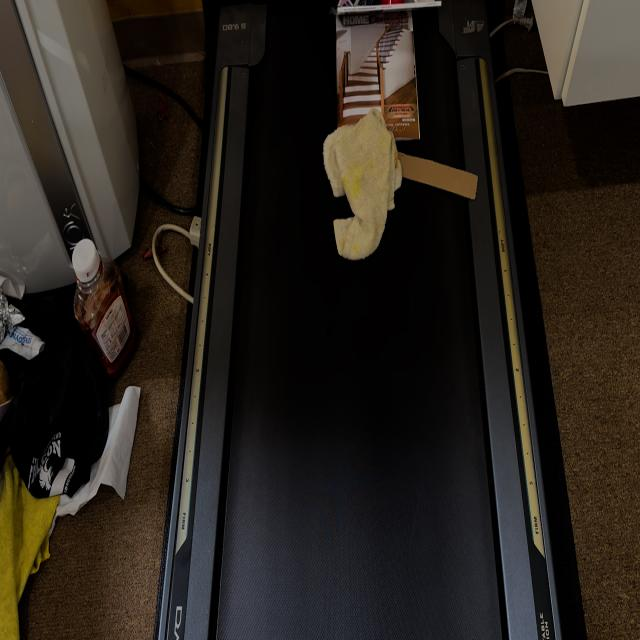Recycle: (387, 131, 479, 220)
Trash: (334, 4, 449, 136), (318, 119, 408, 264)
